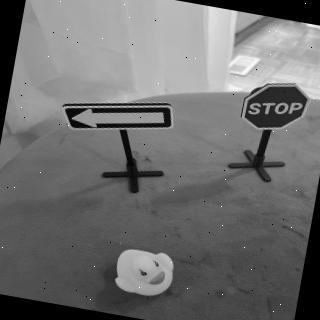duck_regular: (112, 243, 180, 302)
sign_oneway_left: (59, 87, 179, 150)
sign_stop: (240, 77, 320, 141)
